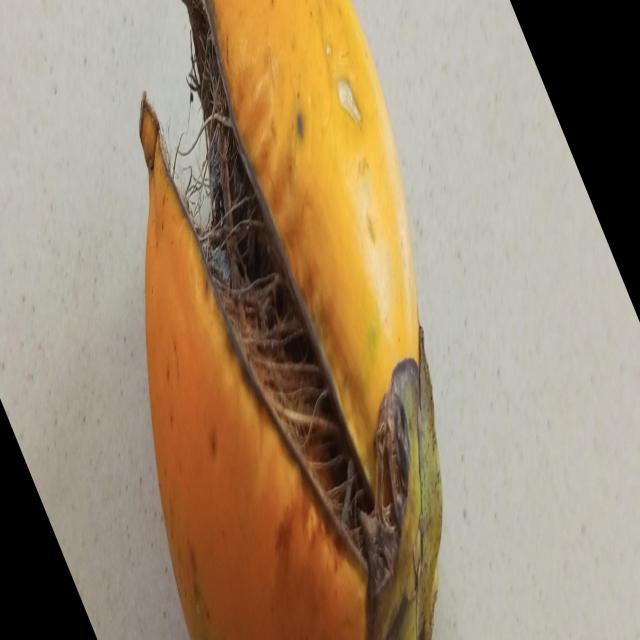damaged: (141, 0, 443, 640)
